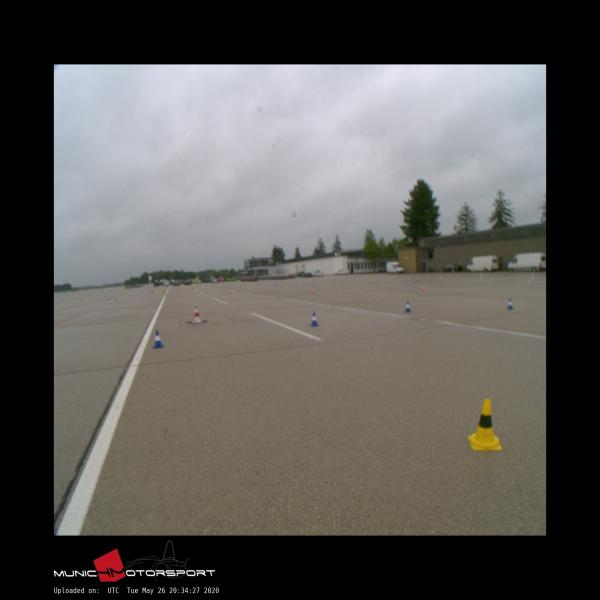blue_cone: (152, 330, 163, 348), (310, 312, 318, 325), (404, 302, 411, 312), (508, 298, 514, 309)
yellow_cone: (467, 398, 501, 450)
